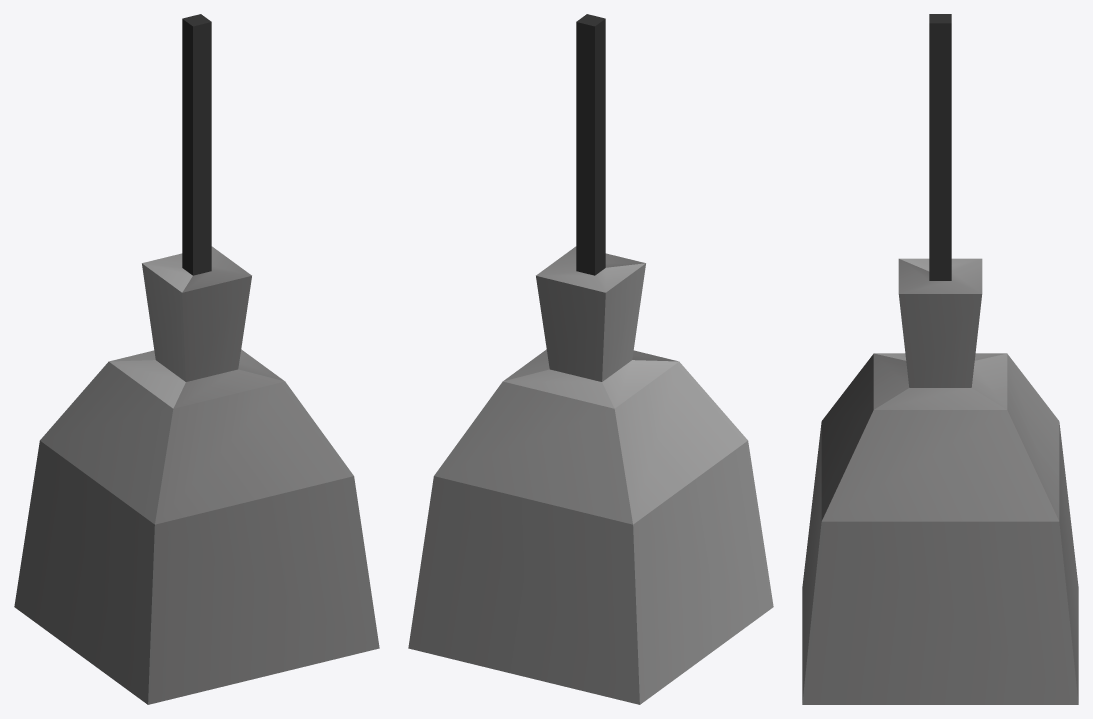
The model's file is B01_Lampe plafond.fbx.
3 views of the same model, side by side, from view 1: azimuth 30°, elevation 25°; view 2: azimuth 150°, elevation 25°; view 3: azimuth 270°, elevation 25° (orthographic). The views are drawn at different scales.
Visible parts, largest first — view 1: B01_Lampe plafond; view 2: B01_Lampe plafond; view 3: B01_Lampe plafond.
Part boxes in pixels (box(x1,y1,x2,y2)): B01_Lampe plafond: box(14, 14, 379, 704); B01_Lampe plafond: box(408, 14, 773, 704); B01_Lampe plafond: box(802, 14, 1078, 704).
Bounding box in the file's own units: 47.79 × 124 × 47.79.
